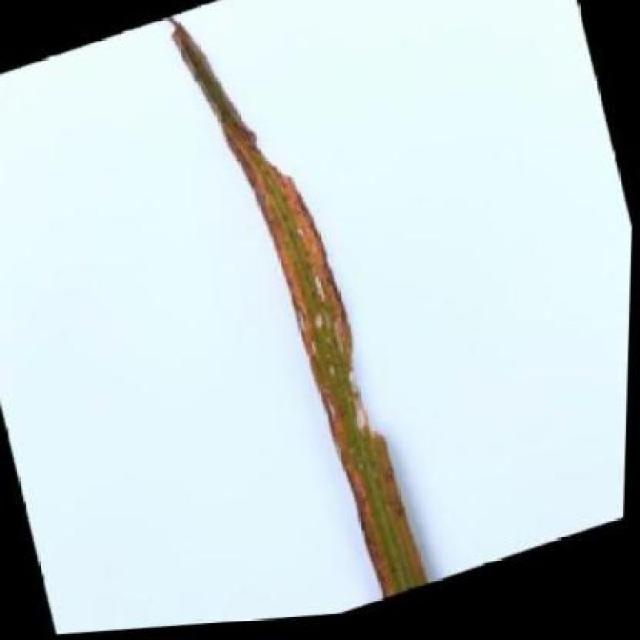Rice False Smut: (133, 0, 450, 631)
